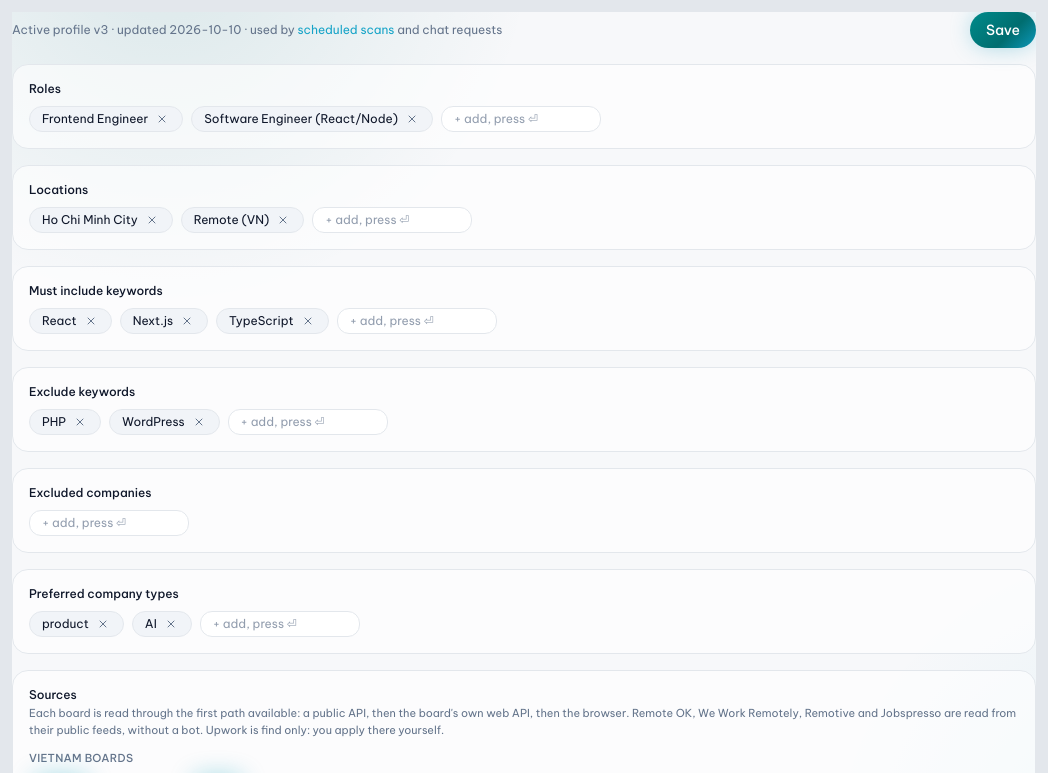
Test: CriteriaScreen (UC-21b) › adds and removes chips, marking the form dirty
The image size is (1048, 773).
Type "Fullstack Engineer" into the field named "Add to Roles" at (521, 119), box [441, 106, 601, 132]
Then press Enter
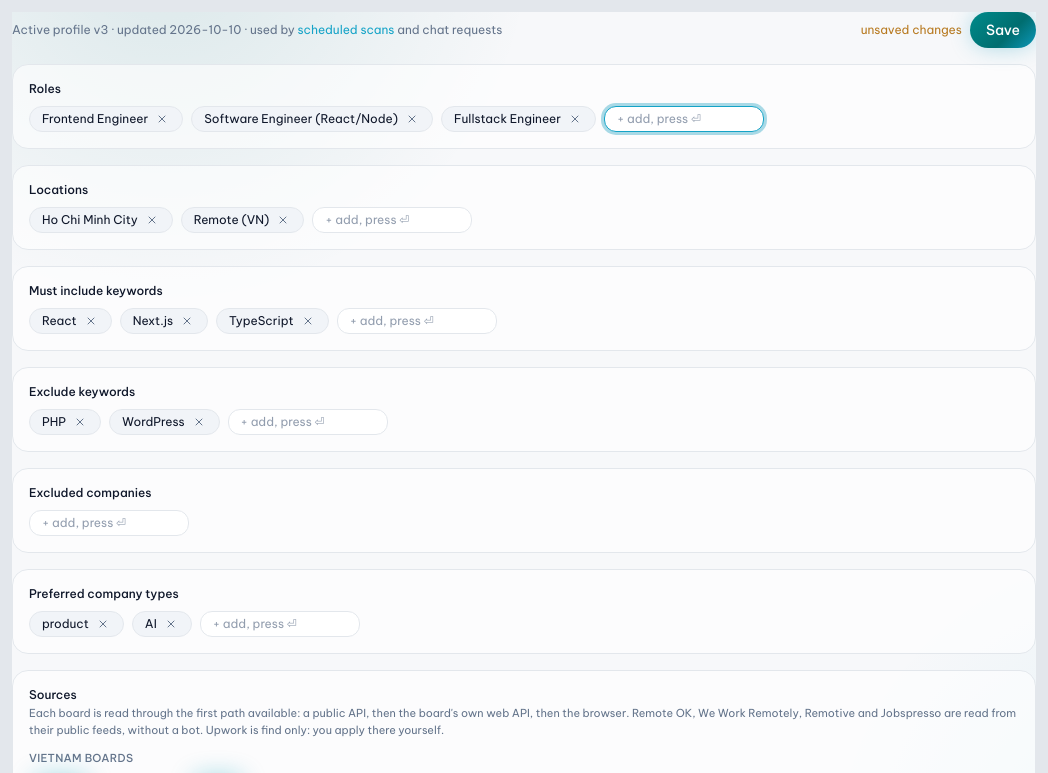
Expected: the text "Fullstack Engineer" is shown, [454, 110, 561, 126]
Expected: the text "unsaved changes" is shown, [861, 22, 962, 38]
Click the button named "Remove Fullstack Engineer" at (575, 118), box [567, 110, 583, 126]
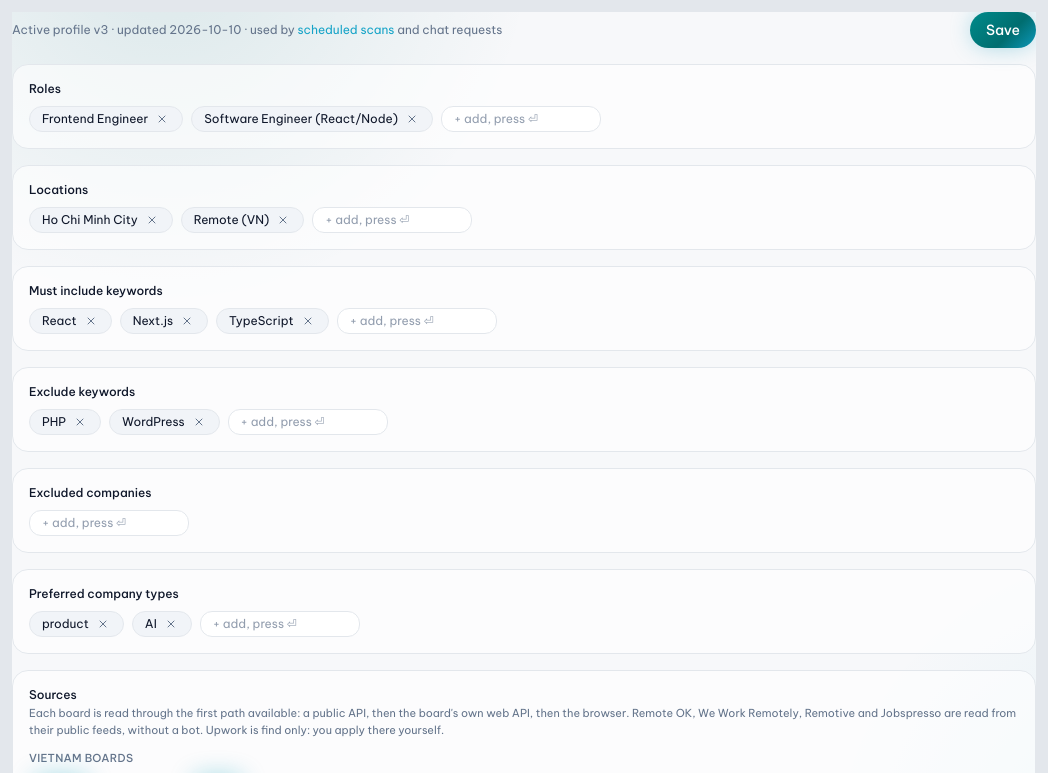
Expected: the text "unsaved changes" is gone
